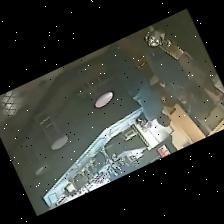person: (104, 46, 170, 125), (128, 32, 190, 103)
